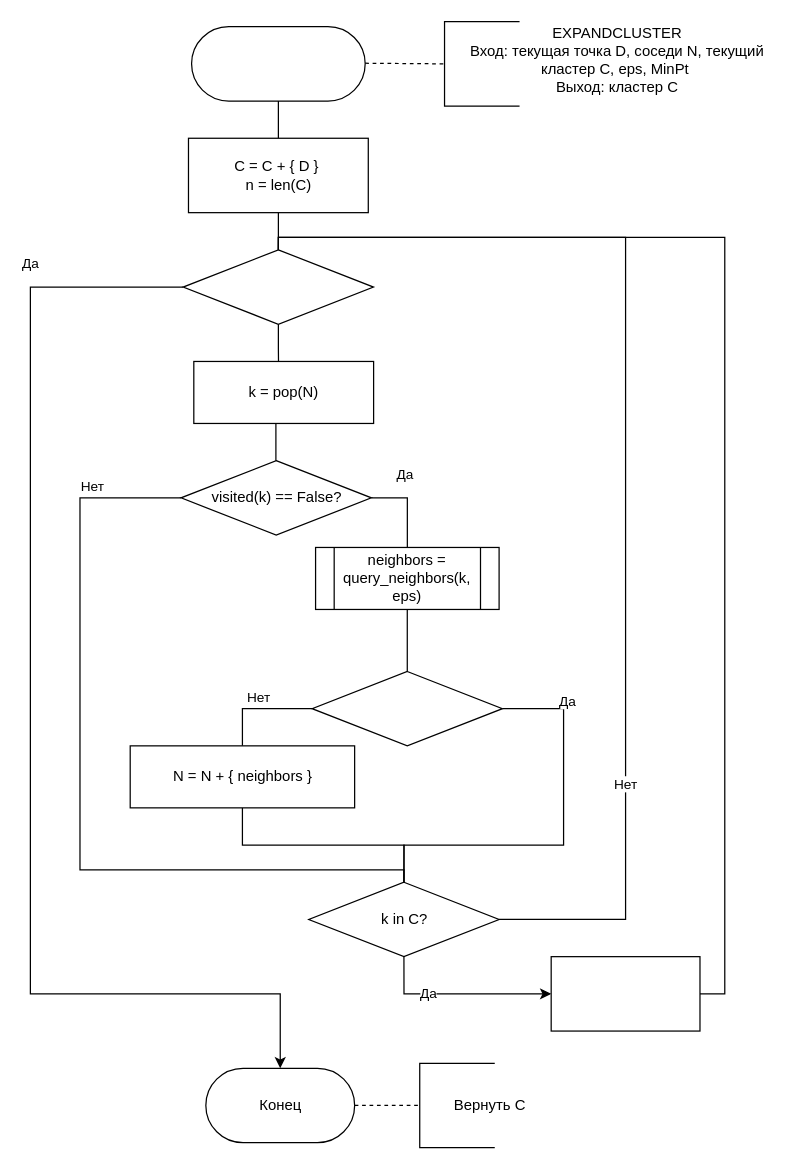
Image size: 794x1169. Some labels were removed from this diagram. Here are the shapes that lost their labels. From the top down, the box of each, then its label:
(190, 25, 365, 101): Начало
(182, 249, 373, 324): len(N) == 0?
(311, 670, 502, 746): len(neighbors) < MinPt
(550, 955, 700, 1031): C[n] = C[n] + { k }
